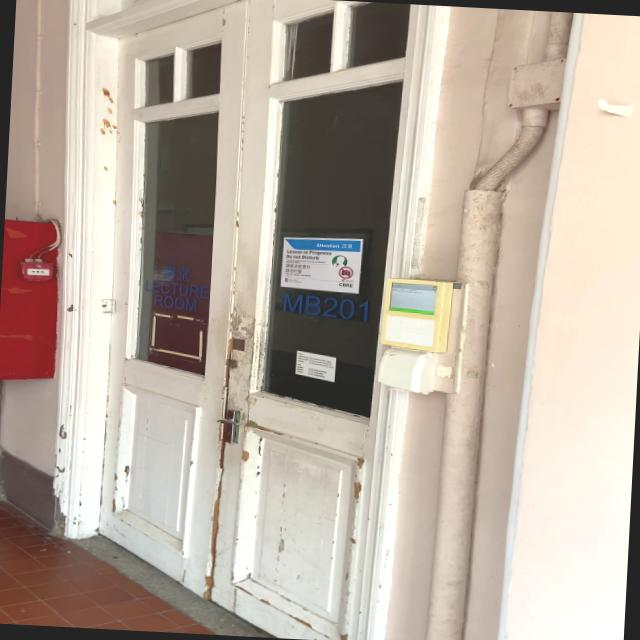room201Window: (276, 289, 378, 328)
